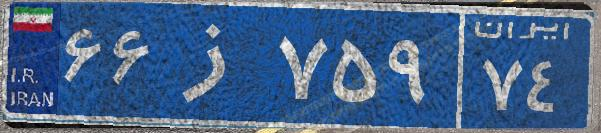4: (525, 38, 570, 115)
5: (330, 28, 385, 110)
6: (57, 26, 110, 107), (110, 28, 158, 105)
7: (273, 28, 330, 110), (475, 38, 525, 113)
9: (385, 28, 445, 110)
ز: (158, 15, 273, 115)
